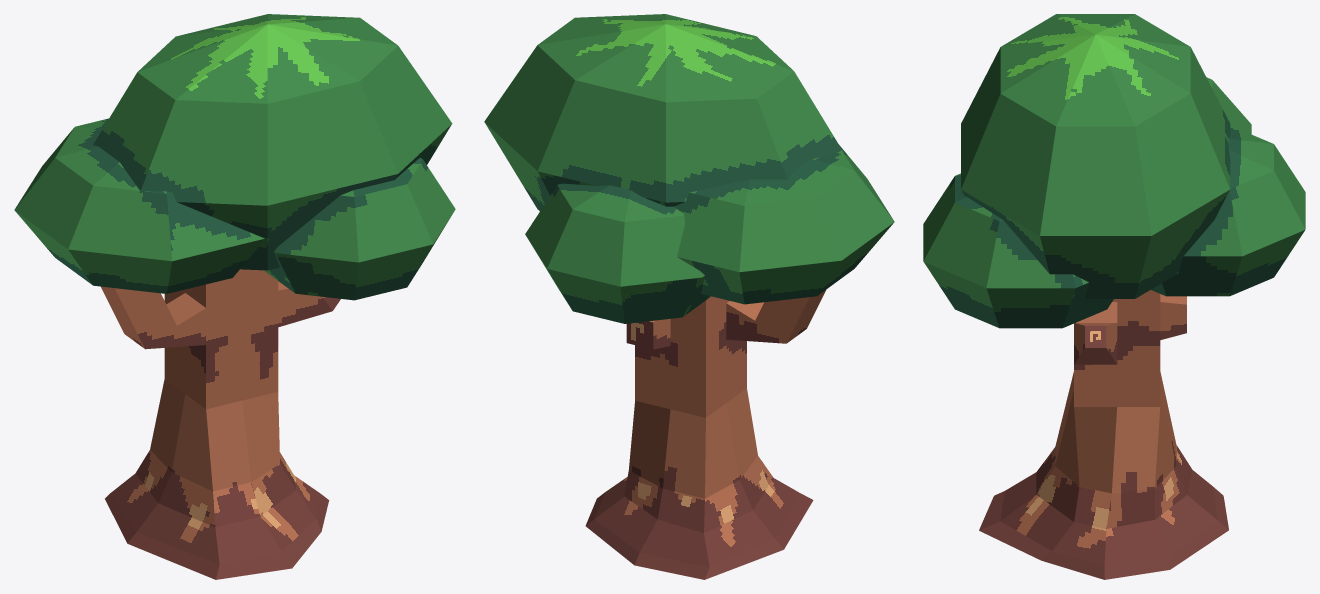
File: Tree.gltf
3 views of the same model, side by side, from view 1: azimuth 30°, elevation 25°; view 2: azimuth 150°, elevation 25°; view 3: azimuth 270°, elevation 25° (orthographic). The views are drawn at different scales.
Parts seen in each view (by area): view 1: sphere (×3), cuboid; view 2: sphere (×3), cuboid; view 3: sphere (×4), cuboid.
Part boxes in pixels (x1,y1,x2,y2): sphere (×3): (14, 14, 455, 300); cuboid: (101, 269, 340, 579); sphere (×3): (484, 14, 894, 323); cuboid: (585, 289, 826, 579); sphere (×4): (923, 14, 1305, 328); cuboid: (979, 290, 1228, 579).
Size of the model in its own units: 5.19 by 6.56 by 4.44.
2 materials, 2 textured.
